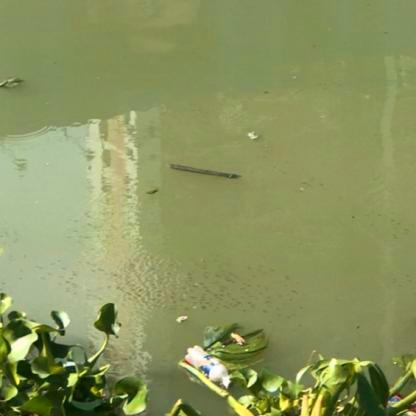Plastic: (184, 342, 233, 391)
